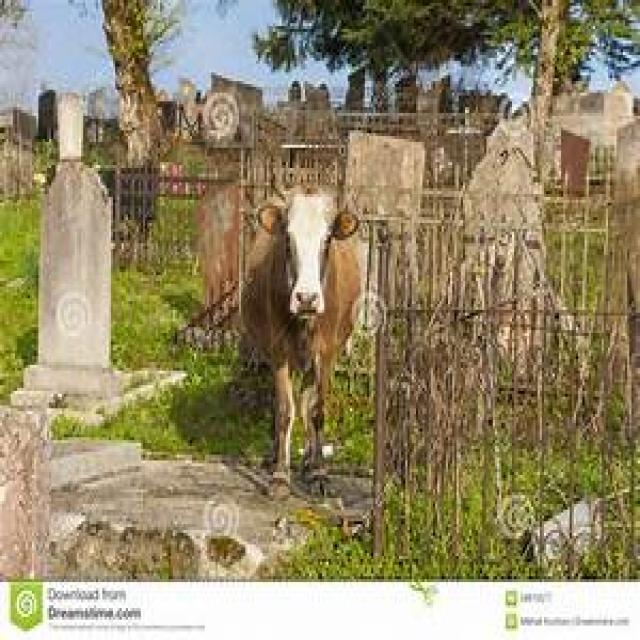animal: (237, 177, 367, 495)
